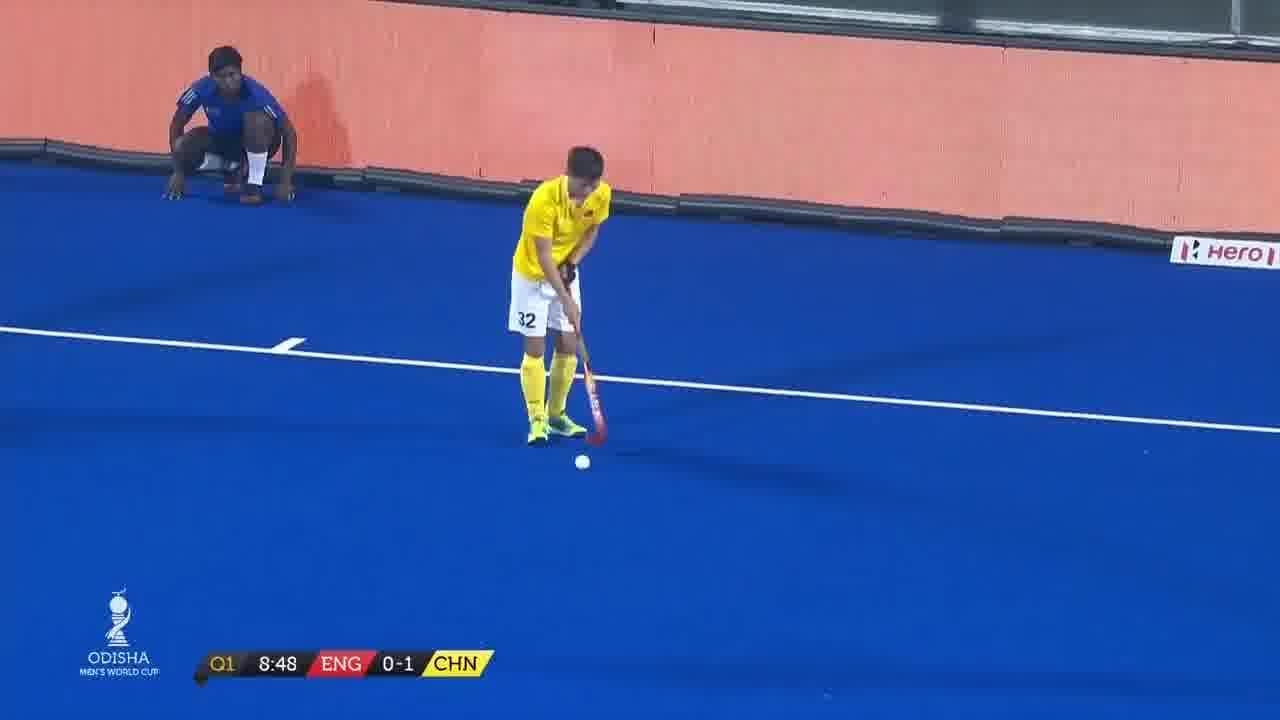ball: (572, 452, 592, 470)
